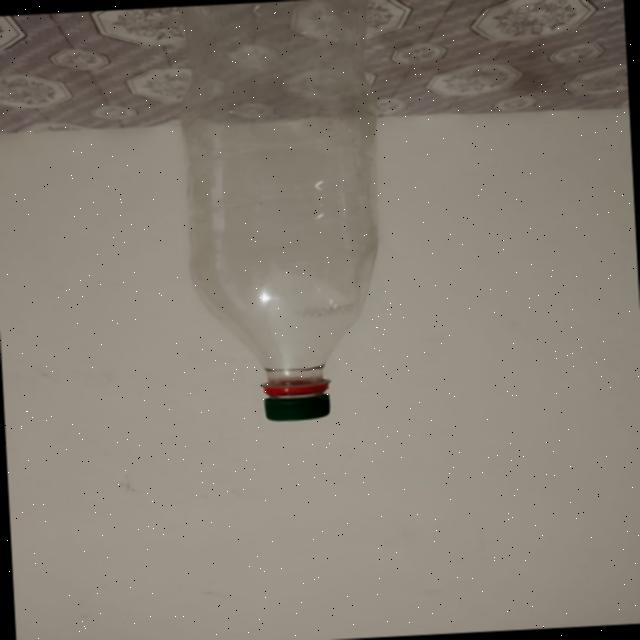bottle: (178, 0, 390, 423)
cap: (264, 382, 332, 422)
